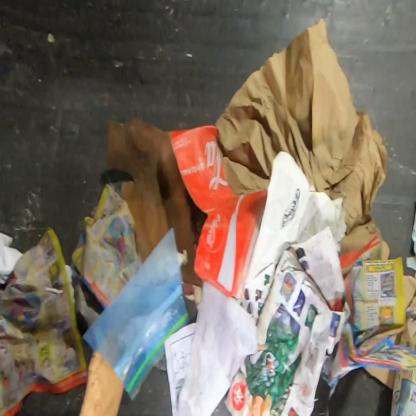cardboard: (169, 125, 267, 300), (78, 351, 126, 415), (364, 367, 396, 391), (403, 275, 416, 310)
soft_plastic: (79, 228, 191, 402)
